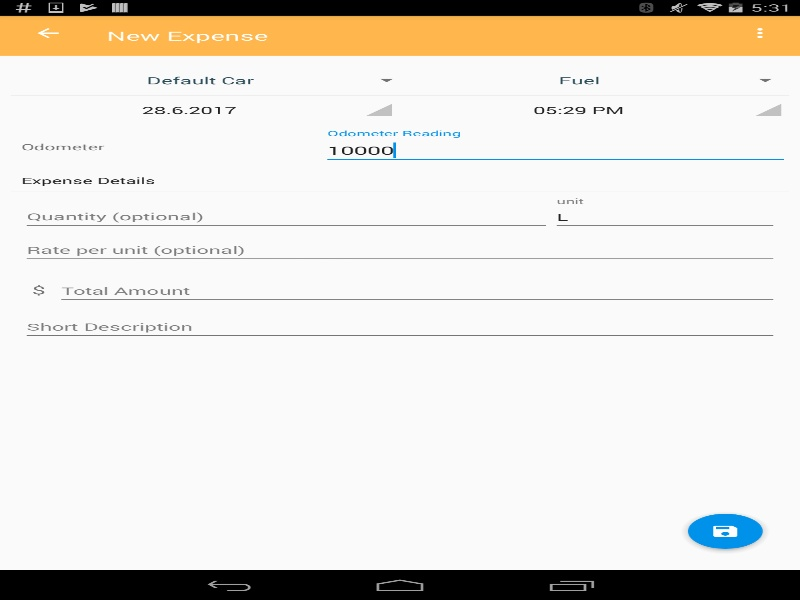Button: (672, 502, 778, 560), (10, 13, 85, 53)
Input: (21, 237, 778, 264), (21, 314, 778, 340), (56, 278, 778, 305), (21, 204, 551, 230), (322, 136, 789, 164), (551, 204, 778, 230)
